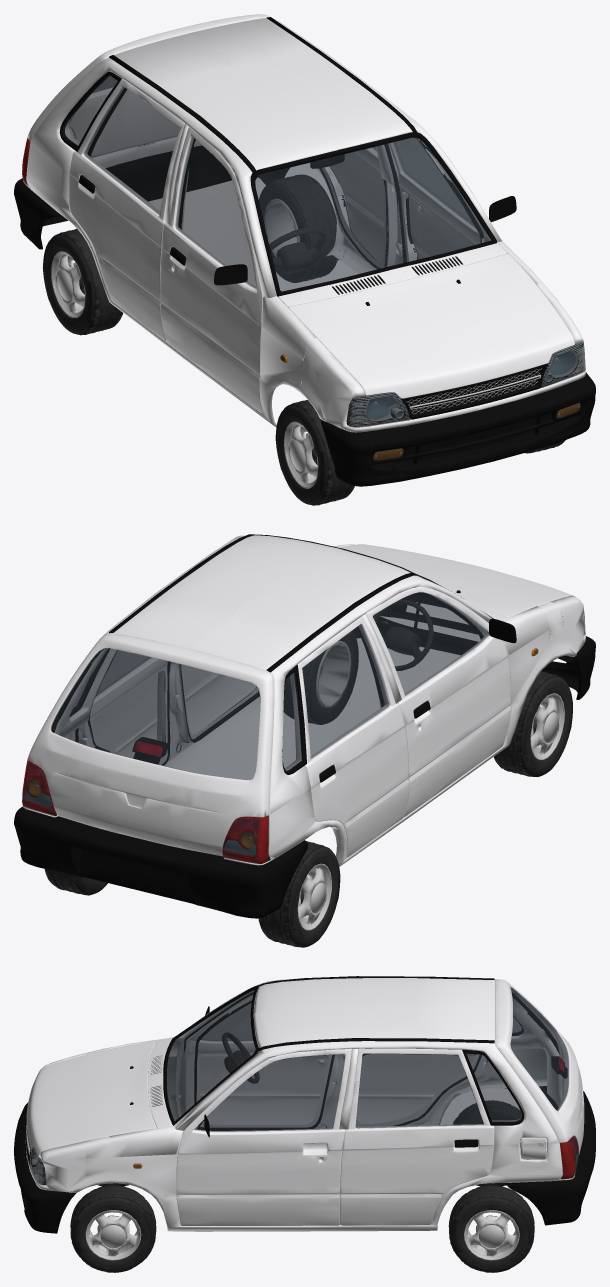
Rendered from maruti.glb.
The picture shows the model from 3 angles, top to bottom: view 1: azimuth 30°, elevation 25°; view 2: azimuth 150°, elevation 25°; view 3: azimuth 270°, elevation 25°; orthographic projection. The views are drawn at different scales.
Visible parts, largest first — view 1: chassis, bonnet, bump_front, door_rf, door_rr, door_lf, boot, door_lr, rim_rf.001, rim_rf.003, rim_rf; view 2: chassis, boot, door_rf, bump_front, door_rr, door_lr, bonnet, rim_rf, rim_rf.001, rim_rf.002, door_lf, rim_rf.003; view 3: chassis, door_lf, door_lr, bonnet, door_rf, boot, door_rr, bump_front, rim_rf.002, rim_rf.003, rim_rf.001.
Boxes of the visible parts, x1,y1,x2,y2 form: chassis: (22,17,585,460); bonnet: (278,243,574,398); bump_front: (14,145,595,486); door_rf: (160,126,263,413); door_rr: (69,78,184,341); door_lf: (389,138,516,261); boot: (27,14,271,157); door_lr: (318,147,397,268); rim_rf.001: (42,228,122,335); rim_rf.003: (259,175,337,282); rim_rf: (275,400,354,505); chassis: (22,534,585,906); boot: (27,633,274,856); door_rf: (366,586,516,817); bump_front: (14,596,595,918); door_rr: (297,616,409,857); door_lr: (75,650,167,764); bonnet: (339,544,572,620); rim_rf: (493,671,572,776); rim_rf.001: (258,841,340,947); rim_rf.002: (283,631,358,724); door_lf: (175,665,258,742); rim_rf.003: (44,869,107,895); chassis: (25,976,578,1232); door_lf: (176,1048,351,1225); door_lr: (340,1048,494,1225); bonnet: (26,1038,173,1155); door_rf: (177,992,335,1127); boot: (495,979,584,1155); door_rr: (356,1054,488,1126); bump_front: (14,1086,595,1233); rim_rf.002: (70,1185,156,1272); rim_rf.003: (448,1185,534,1272); rim_rf.001: (453,1100,521,1186).
Size of the model in its own units: 1.72 by 1.47 by 3.53.
19 materials, 17 textured.
